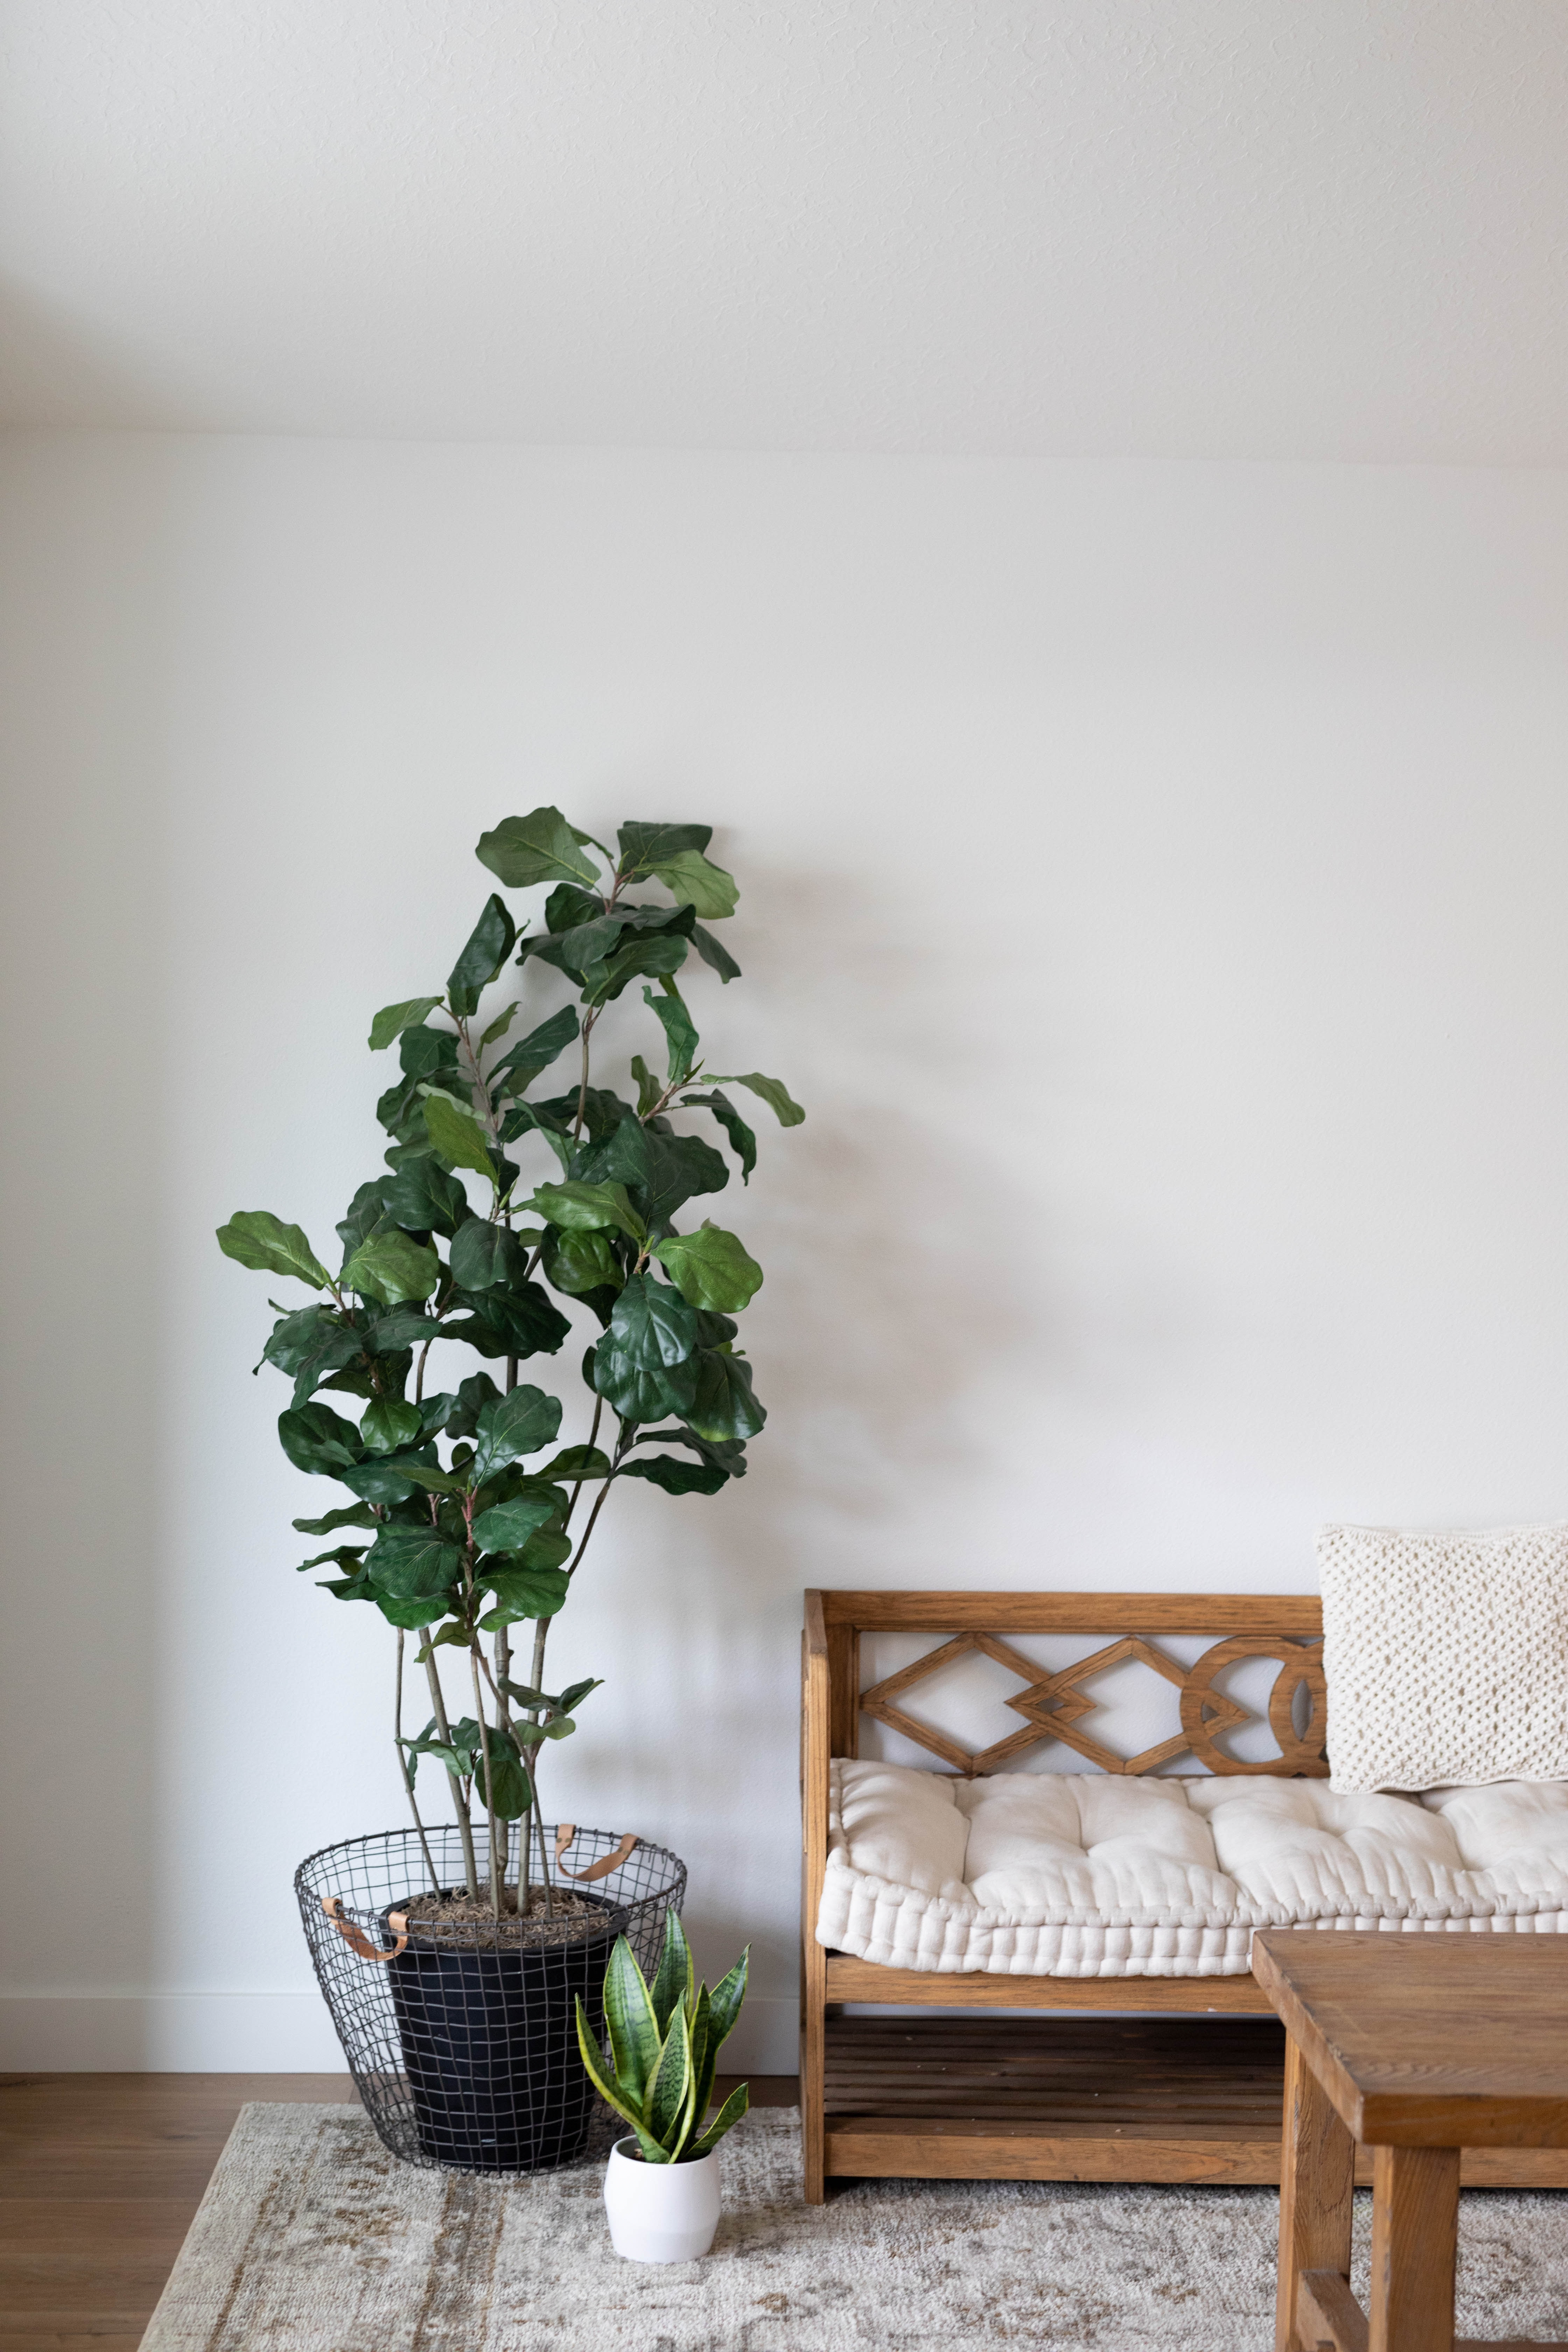Plant: (212, 756, 811, 2195), (584, 1910, 759, 2264)
Sofa: (763, 1552, 1568, 2203)
